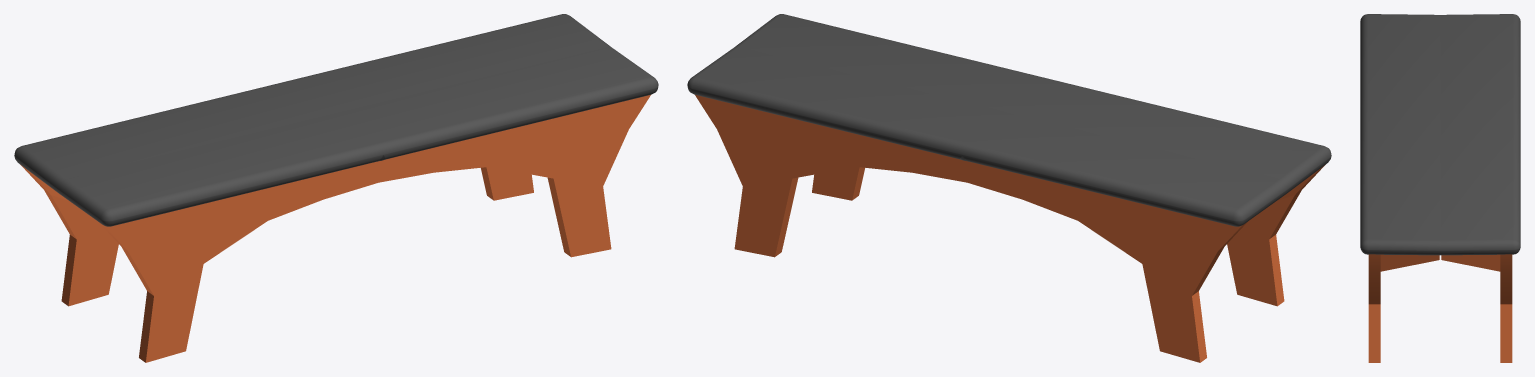
File: bench.glb
The picture shows the model from 3 angles, left to right: view 1: azimuth 30°, elevation 25°; view 2: azimuth 150°, elevation 25°; view 3: azimuth 270°, elevation 25°; orthographic projection. The views are drawn at different scales.
Parts seen in each view (by area): view 1: Bench Seat, Bench Legs; view 2: Bench Seat, Bench Legs; view 3: Bench Seat, Bench Legs.
Boxes of the visible parts, x1,y1,x2,y2 form: Bench Seat: (14, 14, 658, 226); Bench Legs: (20, 95, 650, 362); Bench Seat: (687, 14, 1331, 226); Bench Legs: (695, 95, 1325, 362); Bench Seat: (1360, 14, 1520, 255); Bench Legs: (1368, 254, 1512, 362).
Bounding box in the file's own units: 7.51 × 2.11 × 2.2.
